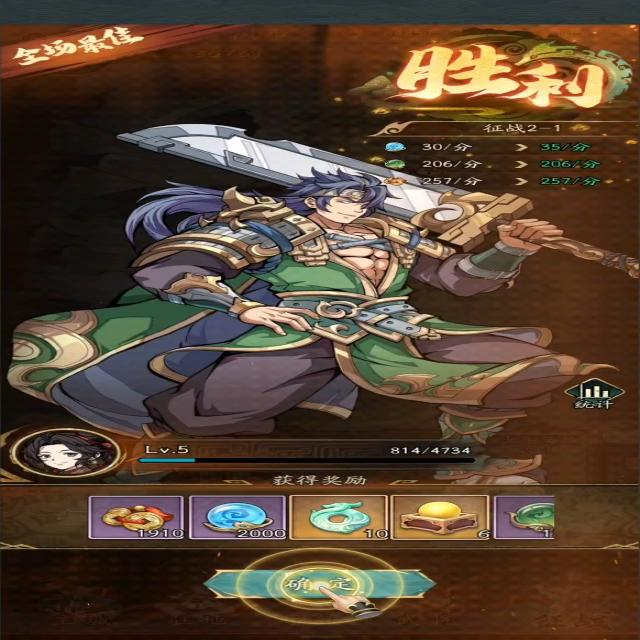hint-guide: (236, 544, 408, 626)
operation-confirm: (186, 565, 436, 602)
